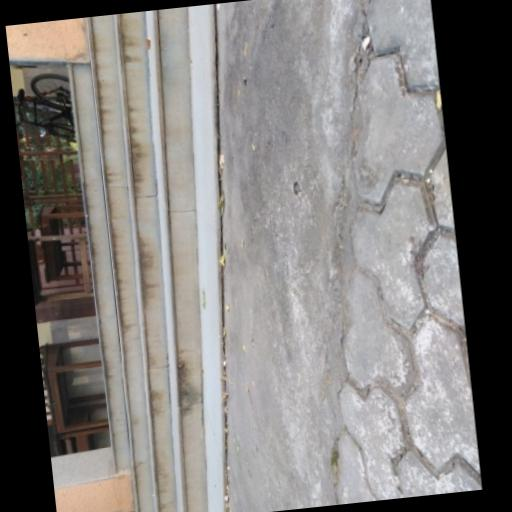stairs: (70, 7, 208, 511)
